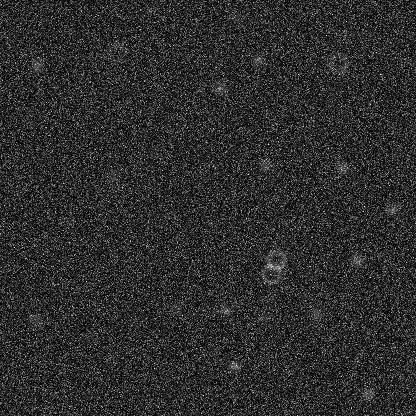Ring: (259, 261, 283, 285), (103, 39, 127, 63), (325, 51, 349, 75), (263, 247, 287, 271)
Spot: (27, 312, 43, 328), (228, 8, 244, 24), (249, 52, 265, 68), (348, 252, 364, 268), (168, 300, 184, 316), (384, 200, 400, 216), (103, 169, 119, 185), (255, 310, 271, 326), (307, 306, 323, 322), (257, 156, 273, 172), (227, 358, 243, 374), (334, 160, 350, 176), (359, 386, 375, 402), (28, 56, 44, 72), (211, 79, 227, 95), (217, 302, 233, 318), (125, 311, 141, 327)
